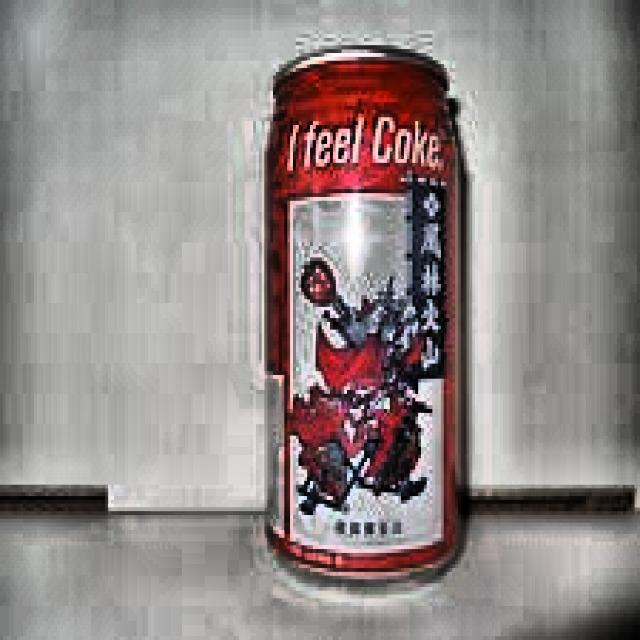Cans: (252, 34, 472, 592)
